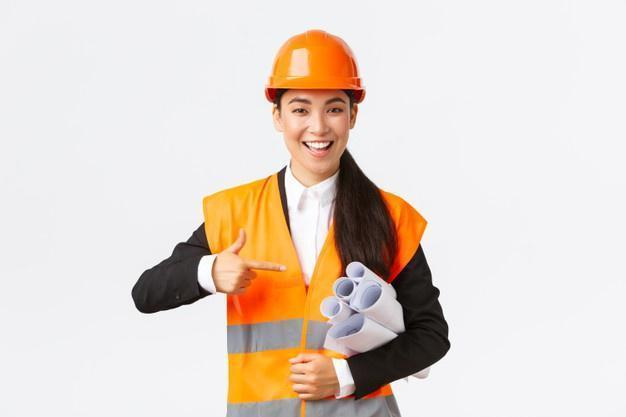helmet: (265, 30, 366, 101)
